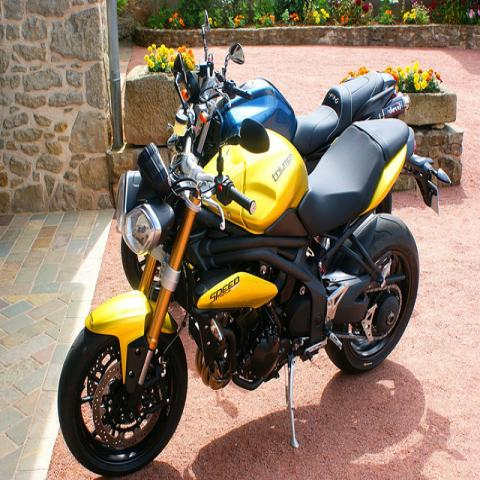motorcycle: (58, 49, 454, 474), (188, 9, 412, 163)
